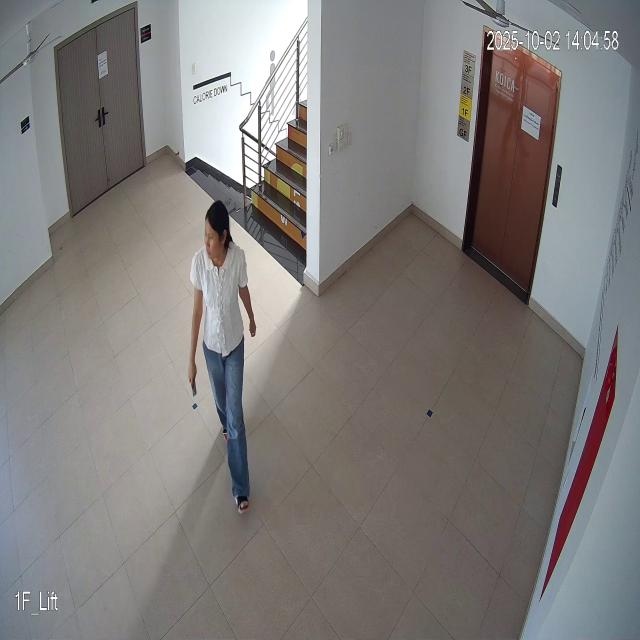face: (201, 198, 236, 265)
